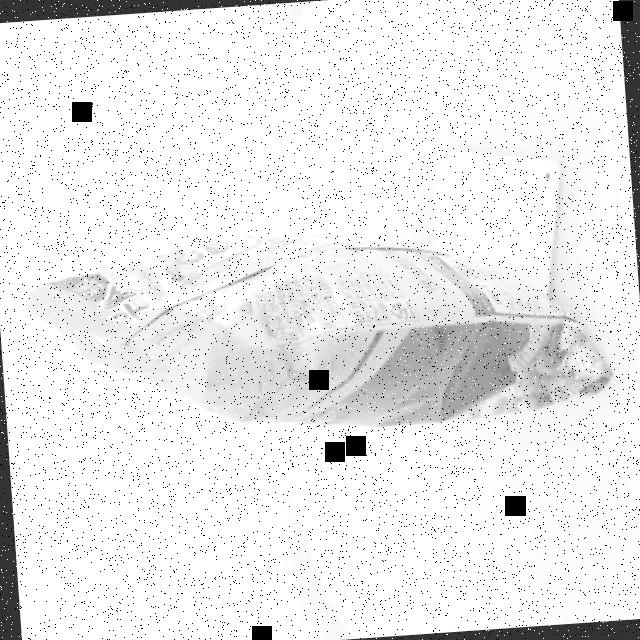snack_bag: (8, 195, 625, 482)
